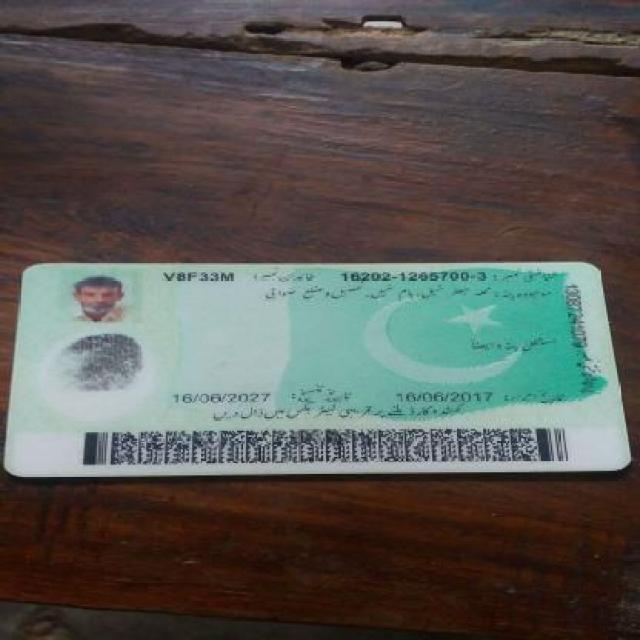Back: (17, 258, 632, 477)
